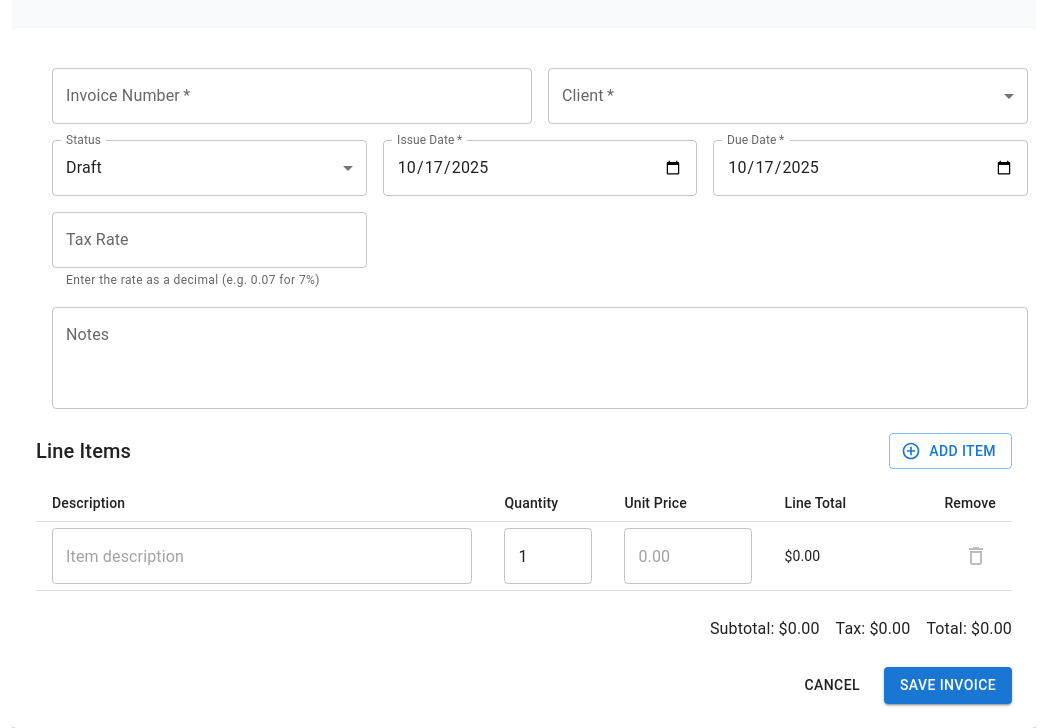
Test: InvoiceFormPage › validates form inputs before submission
The image size is (1048, 728).
(page scrolled)
Step 1. Click the button "Save Invoice" → (948, 686), box [884, 667, 1012, 704]
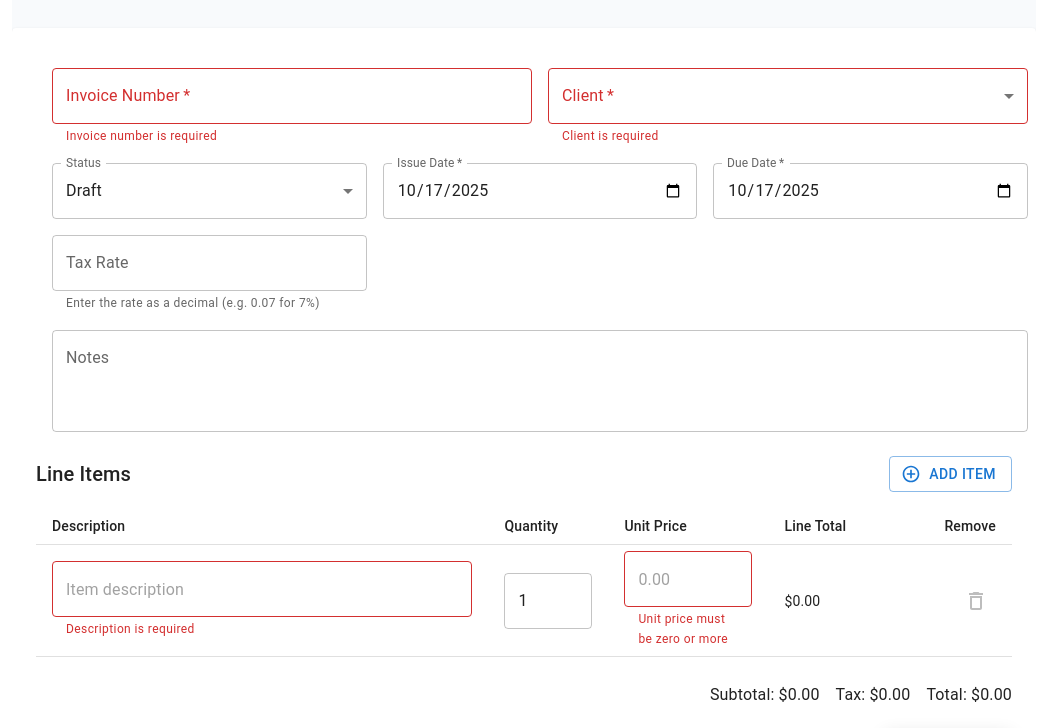
Expected: the text "Invoice number is required" is shown, [66, 129, 217, 143]
Expected: the text "Client is required" is shown, [562, 129, 659, 143]
Expected: the text "Description is required" is shown, [66, 622, 195, 636]
